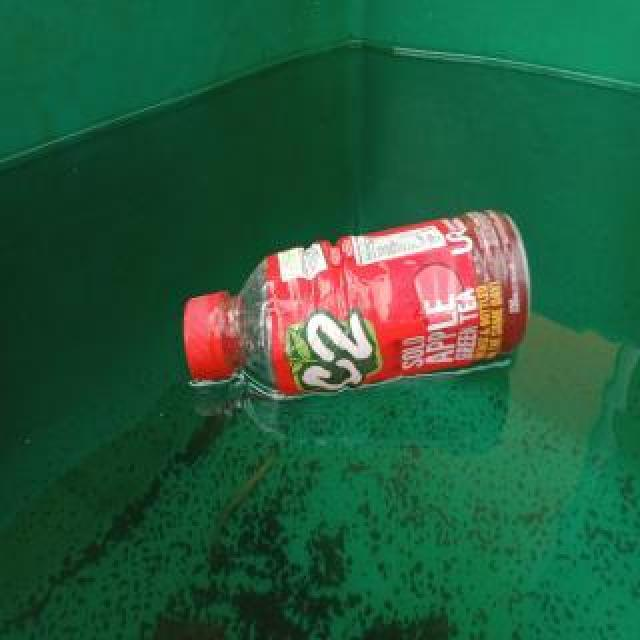bottle: (181, 205, 533, 401)
